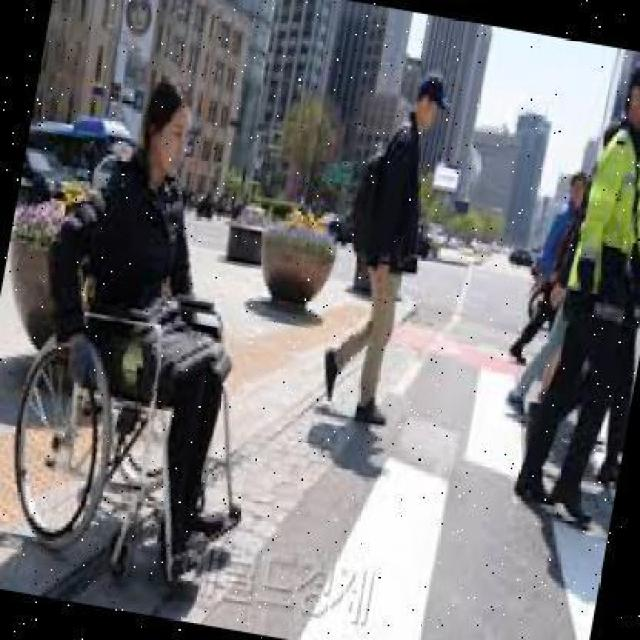Person: (0, 58, 317, 600), (520, 46, 638, 525), (318, 68, 453, 423)
